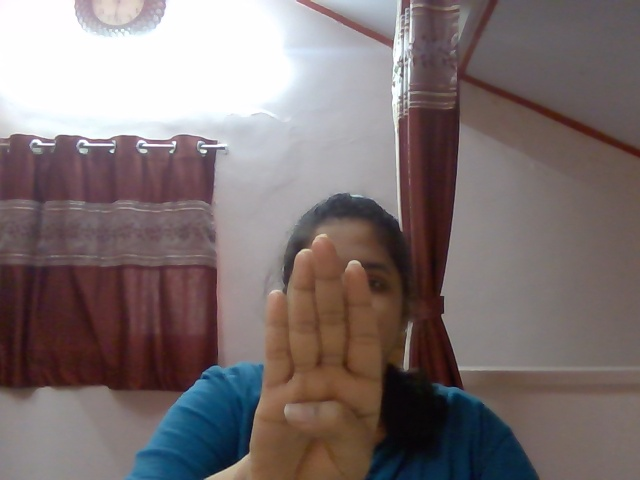b: (220, 219, 406, 480)
